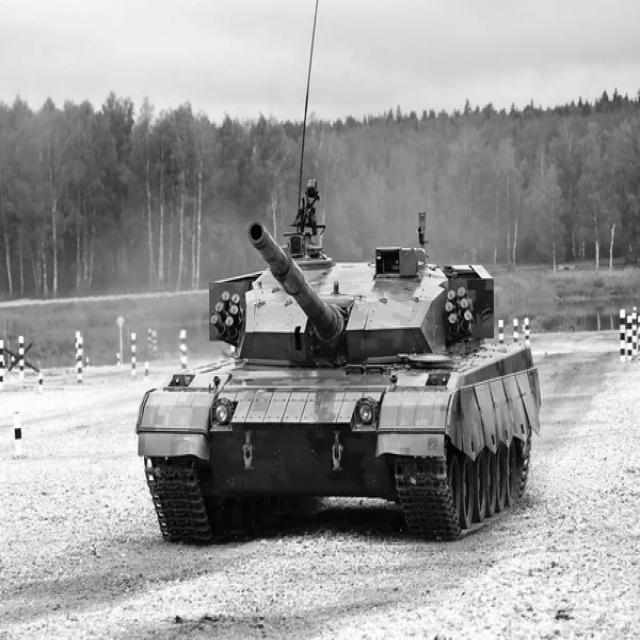Tank: (133, 213, 548, 551)
